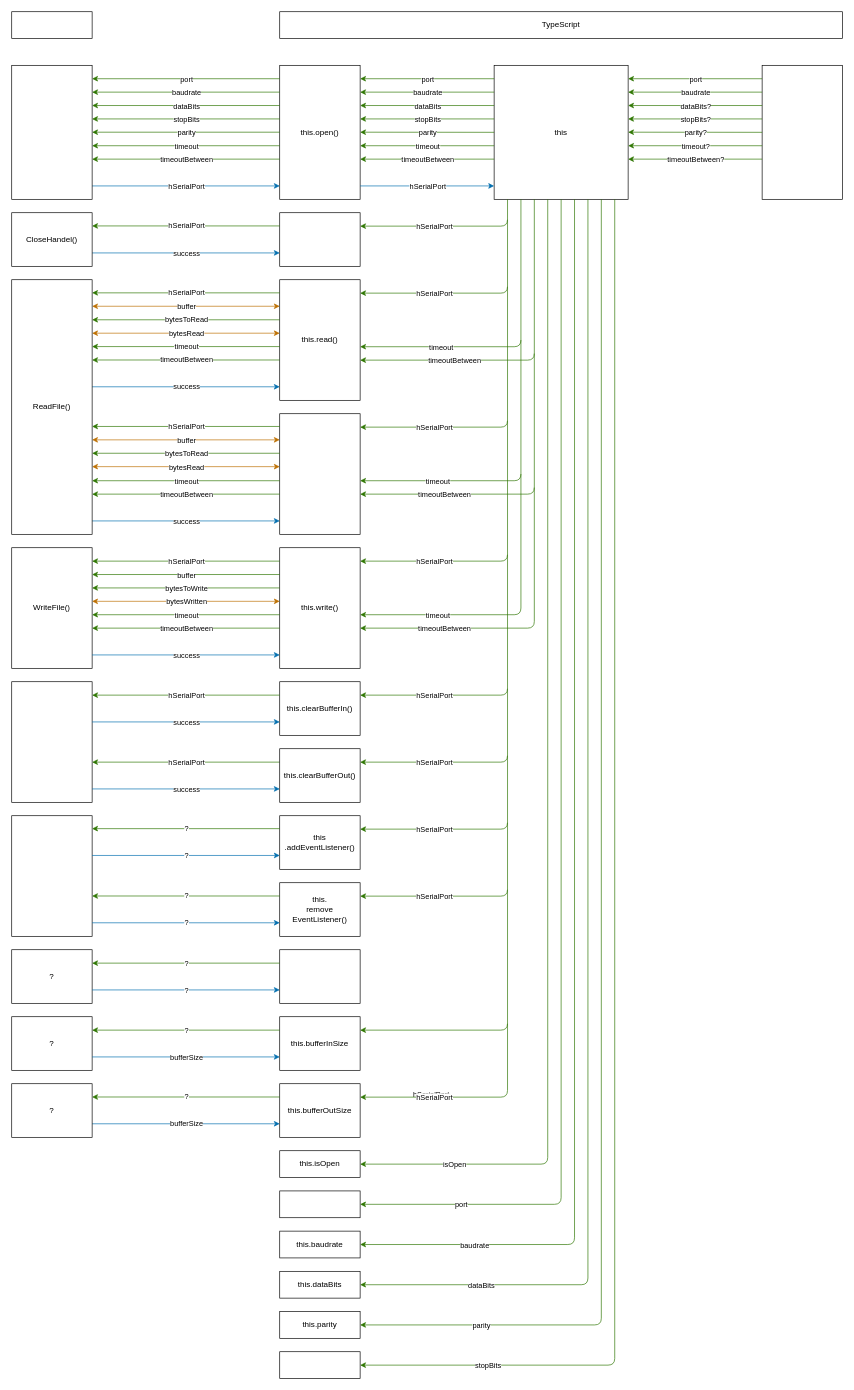
Image size: 854x1390. Some labels were removed from this diagram. The shapes that lost their labels are listed below. From the top down, each one's box as (x1, y1, x2, y2) in pixels, then its label:
(11, 11, 92, 39): C++
(11, 65, 92, 199): CreateFile()
(761, 65, 843, 199): constructor()
(279, 212, 360, 266): this.close()
(279, 413, 360, 534): this.readUntil()
(11, 681, 92, 802): PurgeComm()
(11, 815, 92, 936): WaitCommEvent
(279, 949, 360, 1003): Serial.list()
(279, 1190, 360, 1218): this.port
(279, 1351, 360, 1379): this.stopBits
